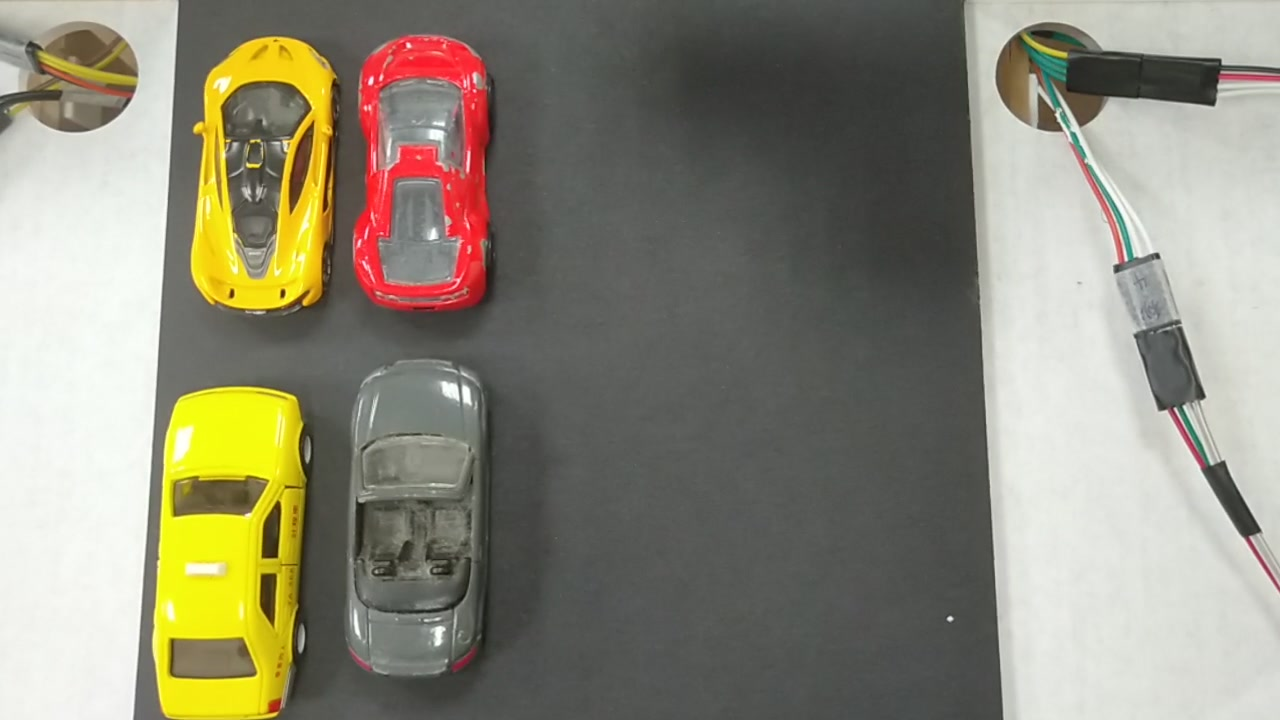car: (152, 399, 314, 711), (351, 362, 480, 679), (195, 37, 333, 313), (350, 32, 486, 307)
